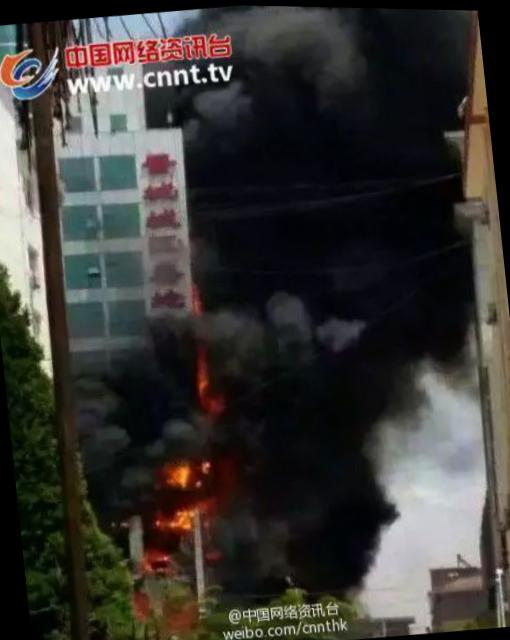fire: (158, 455, 188, 488), (159, 501, 193, 529), (187, 457, 212, 485)
